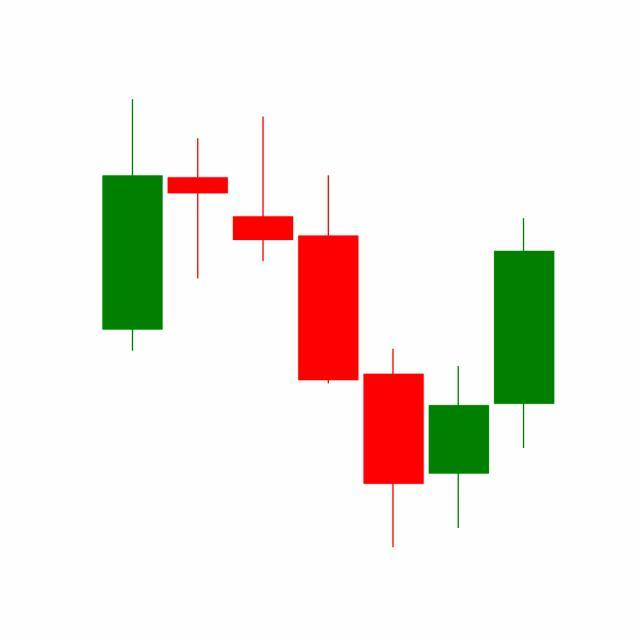Three Inside Up-Down: (360, 214, 556, 548)
